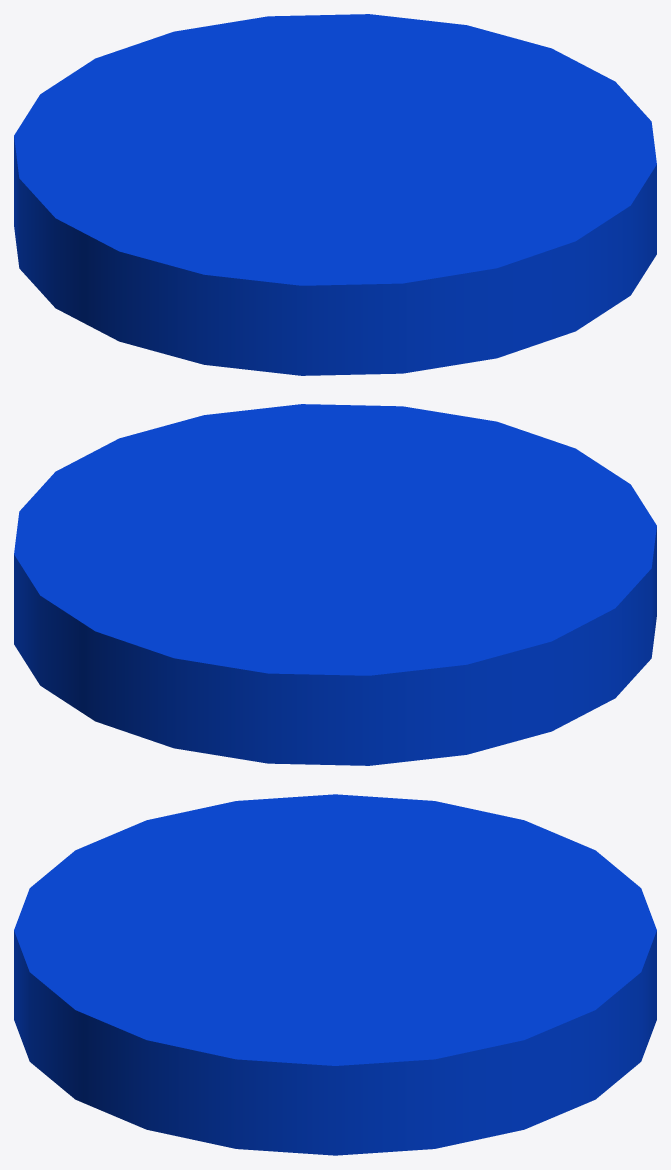
Rendered from mavi.fbx.
3 renders of one model, top to bottom at view 1: azimuth 30°, elevation 25°; view 2: azimuth 150°, elevation 25°; view 3: azimuth 270°, elevation 25°, orthographic.
Visible parts, largest first — view 1: pCylinder2; view 2: pCylinder2; view 3: pCylinder2.
Part boxes in pixels (x1,y1,x2,y2): pCylinder2: (14,14,656,375); pCylinder2: (14,404,656,765); pCylinder2: (14,794,656,1155).
Bounding box in the file's own units: 6.28 × 0.9651 × 6.28.
